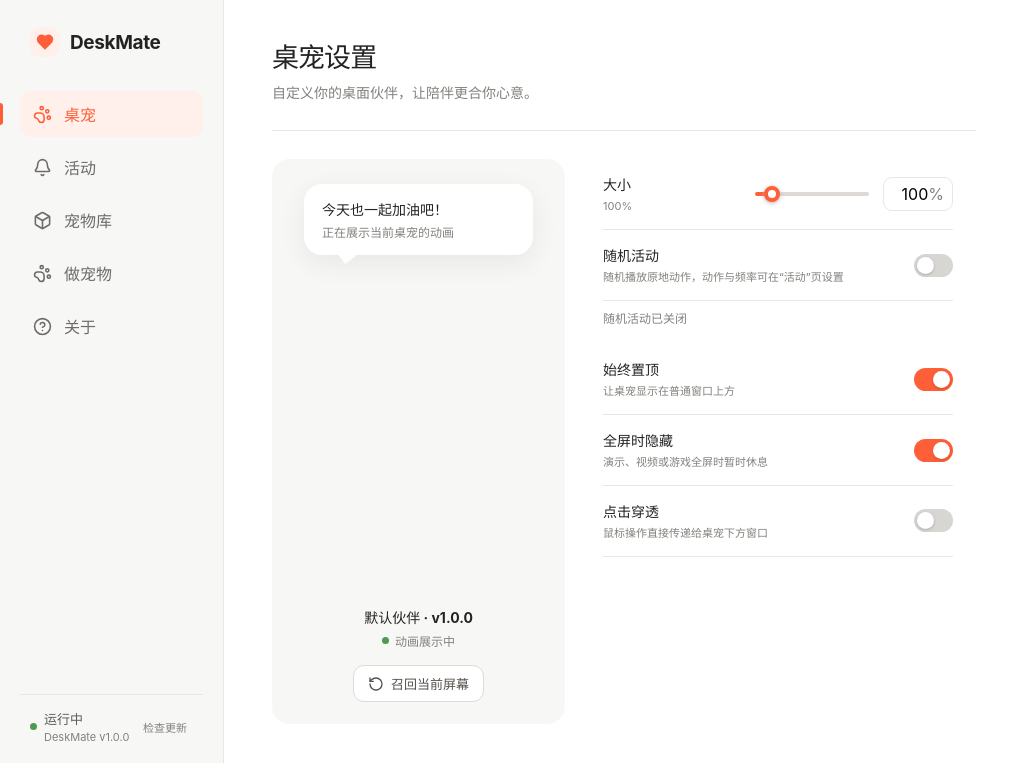
Test: random activity controls › keeps reminders intact when all actions are disabled
Click the button "活动" at (112, 167), box [20, 144, 203, 190]
(page scrolled)
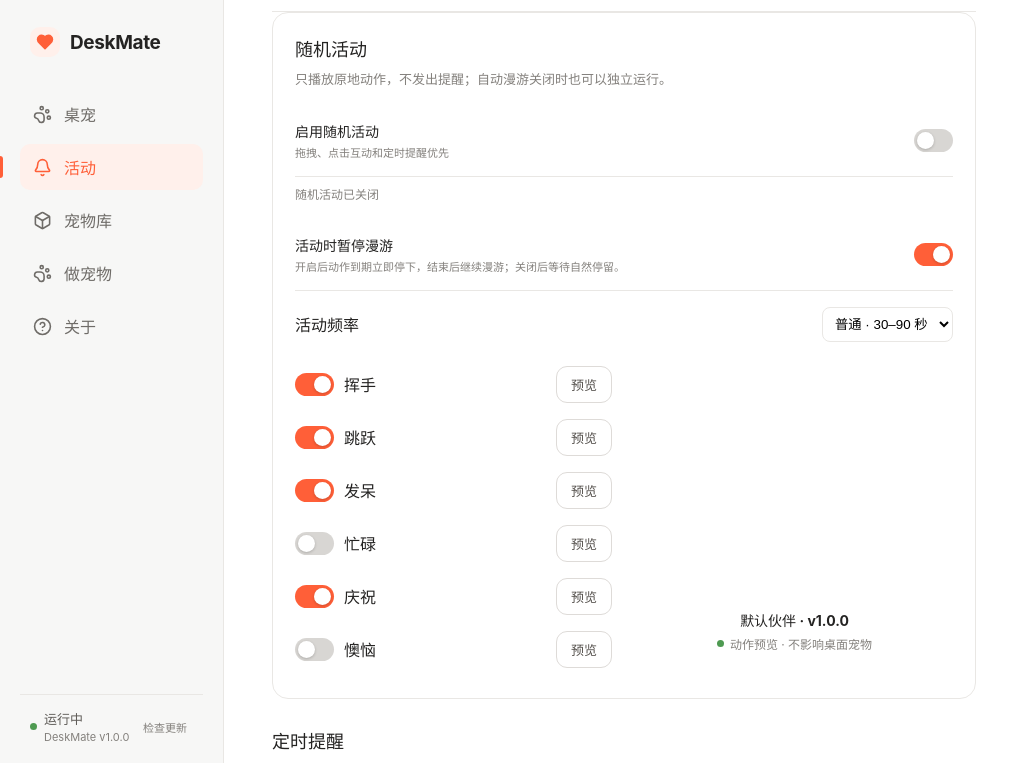
Click the switch named "挥手" at (314, 384), box [295, 373, 334, 396]
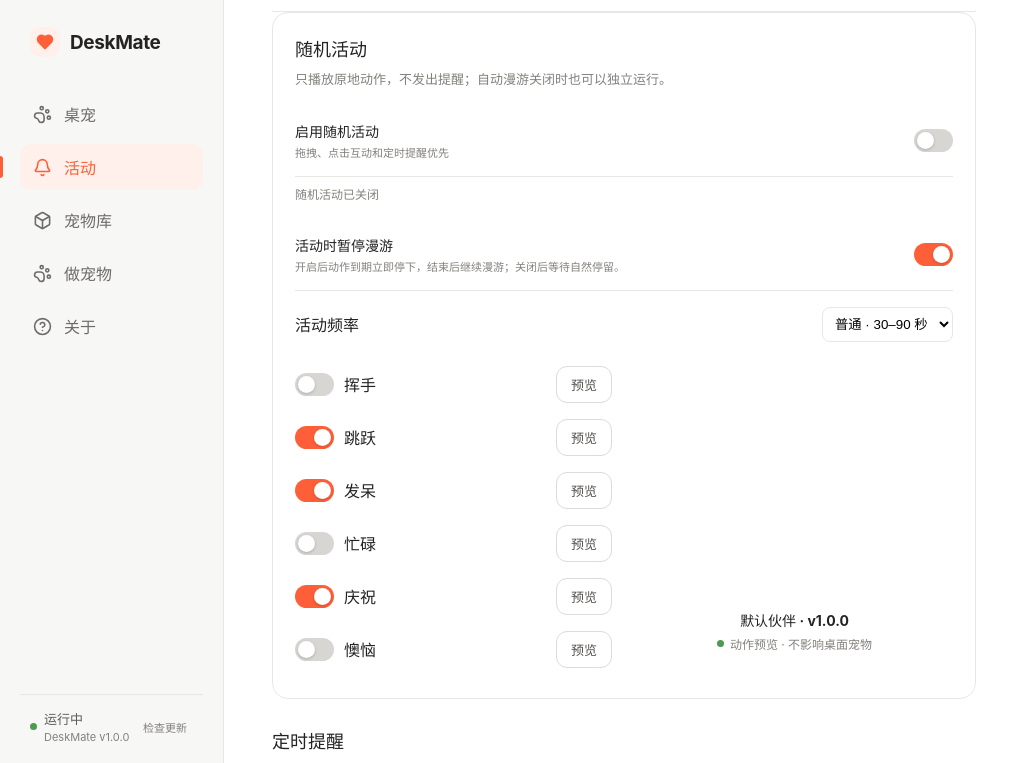
Click the switch named "跳跃" at (314, 437), box [295, 426, 334, 449]
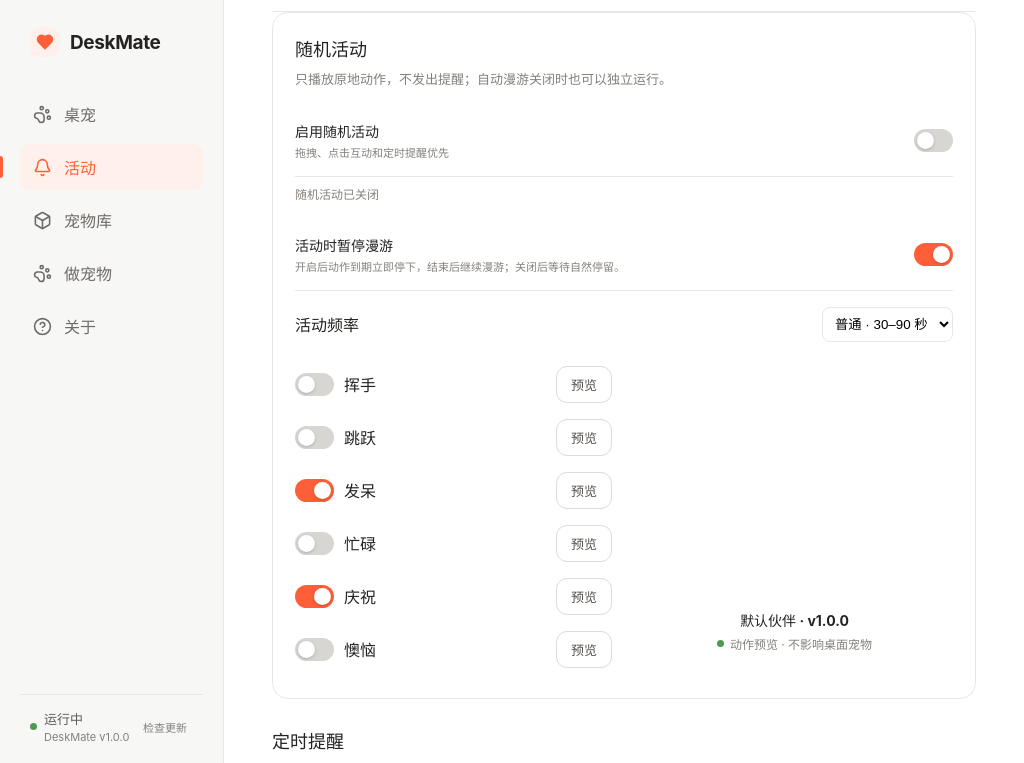
Click the switch named "发呆" at (314, 490), box [295, 479, 334, 502]
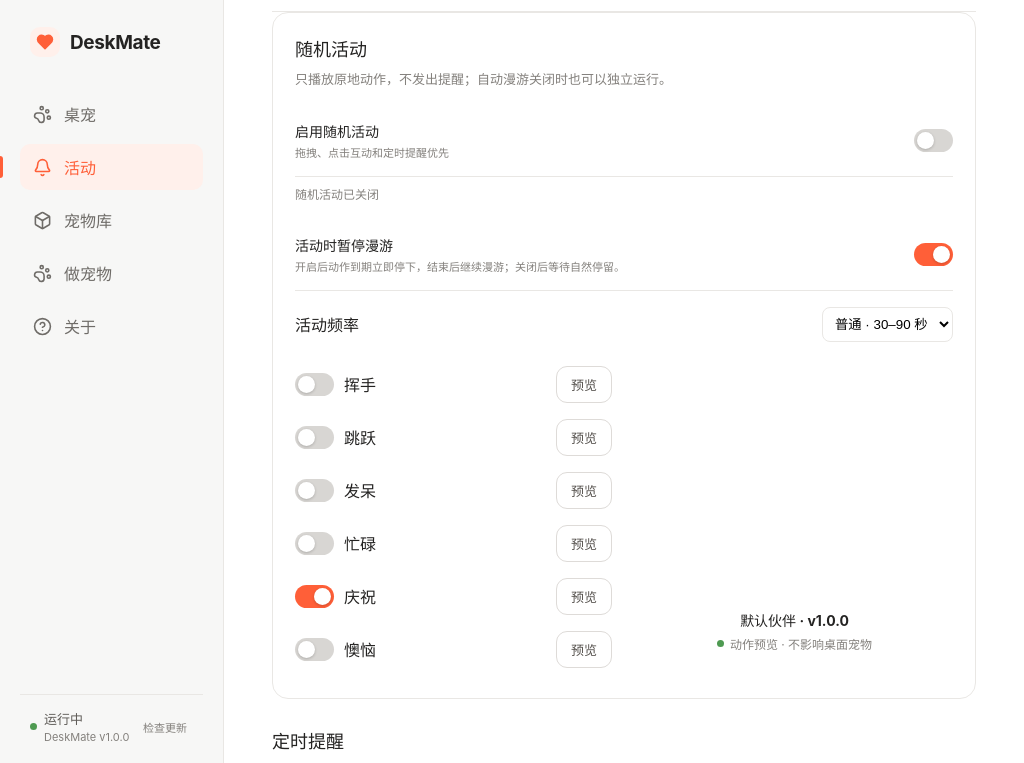
Click the switch named "庆祝" at (314, 596), box [295, 585, 334, 608]
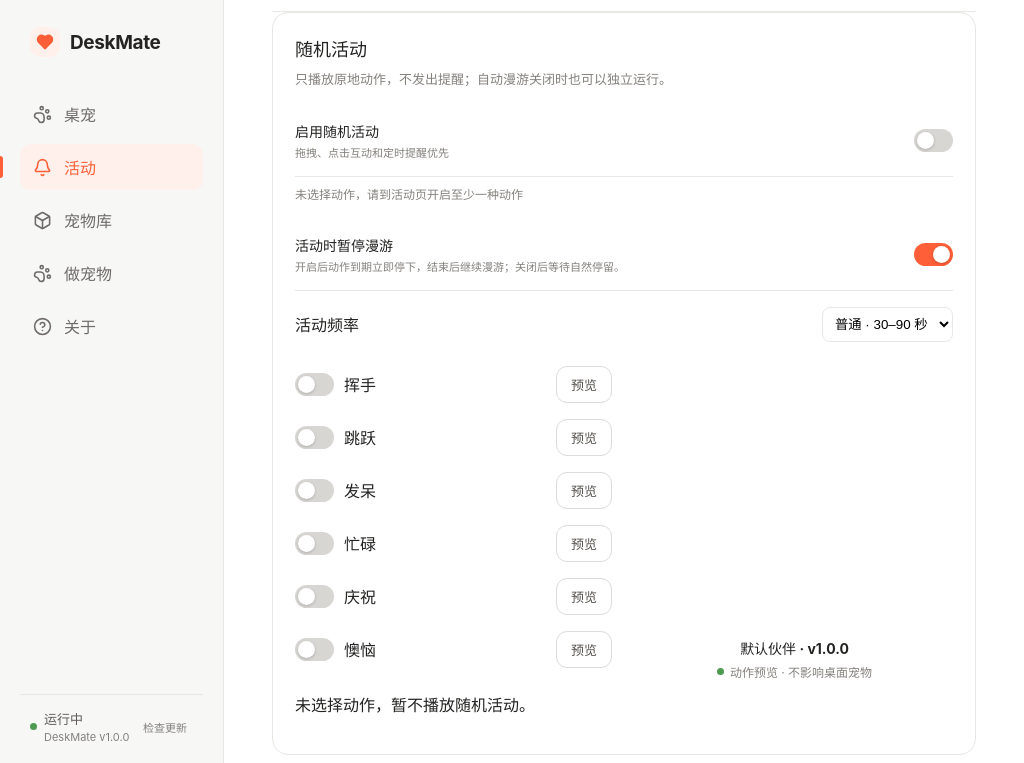
expect the text "未选择动作，暂不播放随机活动。" is shown: met, box [295, 695, 535, 715]
